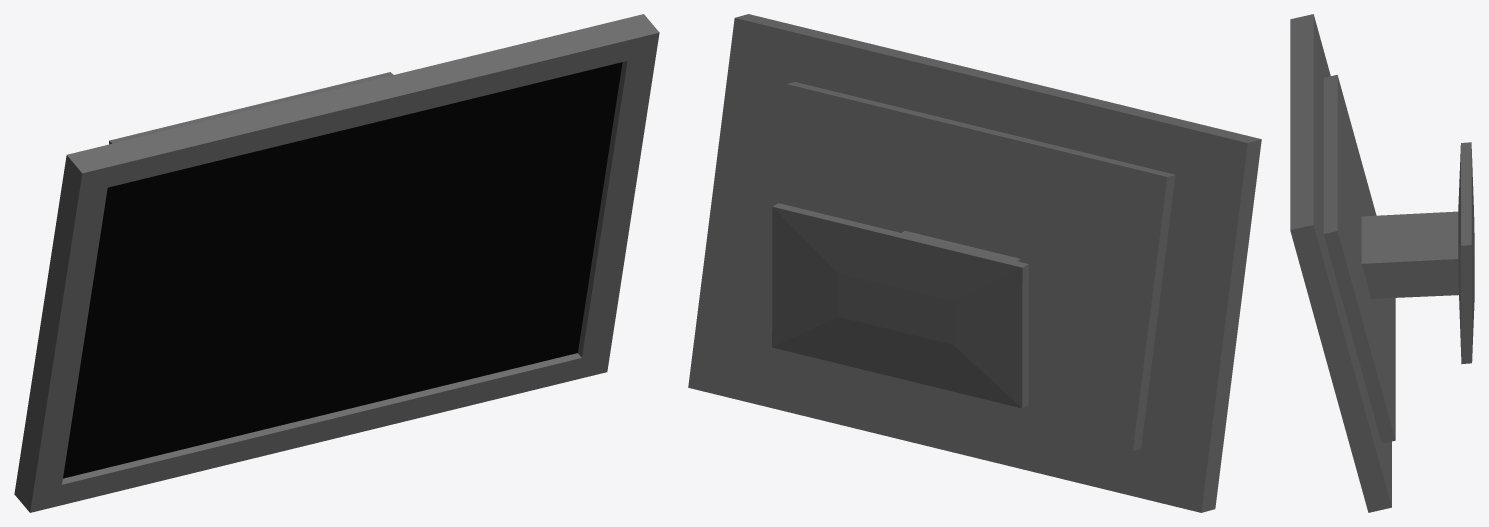
3 renders of one model, left to right at view 1: azimuth 30°, elevation 25°; view 2: azimuth 150°, elevation 25°; view 3: azimuth 270°, elevation 25°, orthographic. The views are drawn at different scales.
Parts seen in each view (by area): view 1: H_Tv; view 2: H_Tv; view 3: H_Tv.
Part boxes in pixels (x1,y1,x2,y2): H_Tv: (14,14,659,512); H_Tv: (688,14,1261,512); H_Tv: (1290,14,1474,512).
Size of the model in its own units: 694 by 257 by 442.
